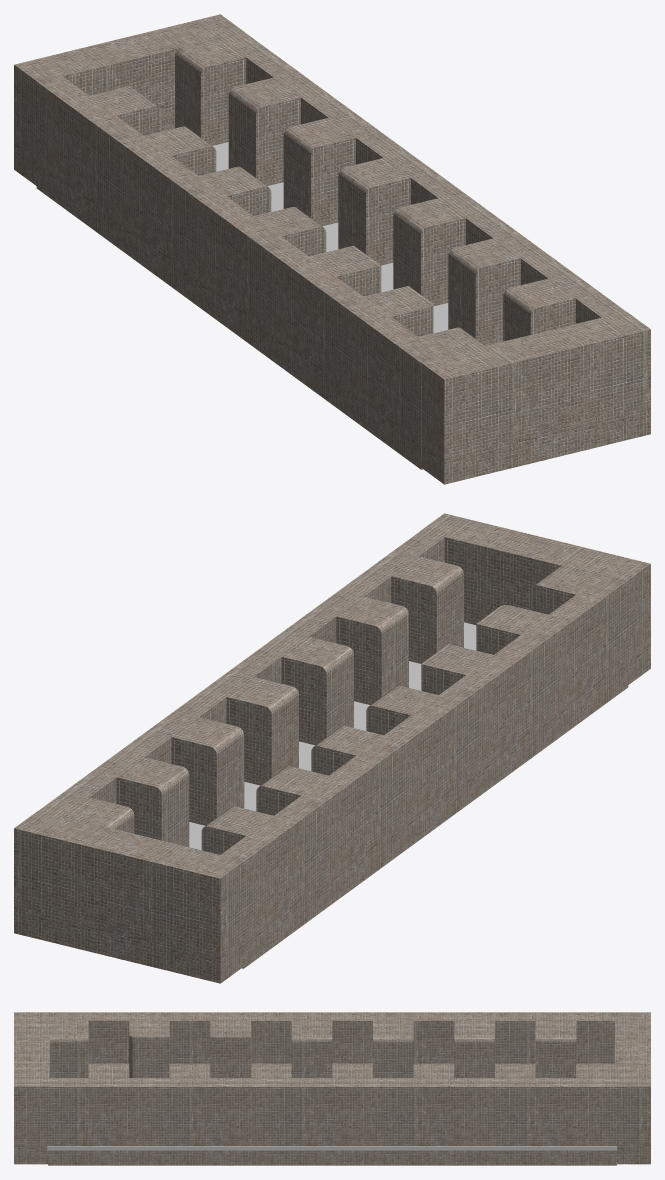
Rendered from valhalla_08.fbx.
The picture shows the model from 3 angles, top to bottom: view 1: azimuth 30°, elevation 25°; view 2: azimuth 150°, elevation 25°; view 3: azimuth 270°, elevation 25°; orthographic projection. The views are drawn at different scales.
Parts seen in each view (by area): view 1: Cube, Cube.001; view 2: Cube, Cube.001; view 3: Cube, Cube.001.
Part boxes in pixels (x1,y1,x2,y2): Cube: [14, 14, 650, 484]; Cube.001: [212, 142, 448, 333]; Cube: [14, 513, 650, 983]; Cube.001: [189, 622, 476, 850]; Cube: [14, 1012, 650, 1165]; Cube.001: [47, 1146, 617, 1150].
Size of the model in its own units: 910 by 444 by 3246.
